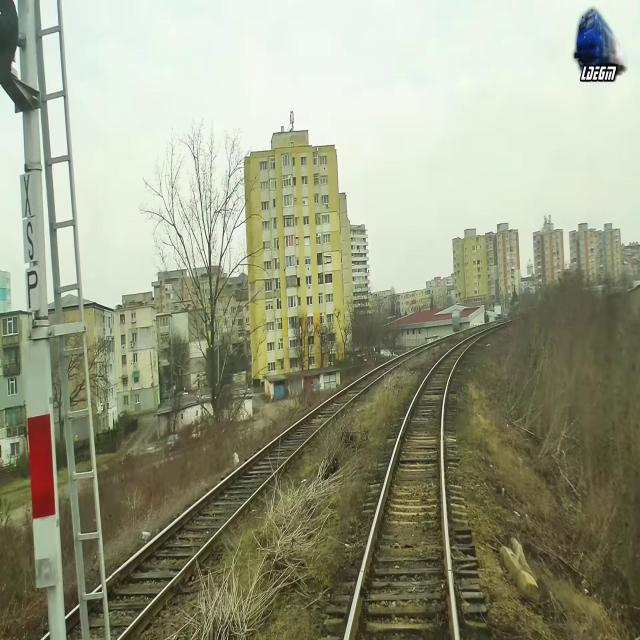rail-track: (106, 361, 395, 638), (349, 337, 475, 639)
